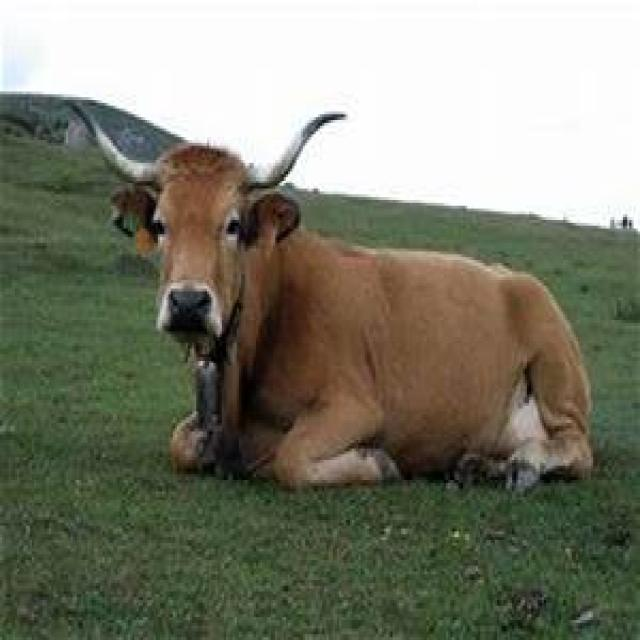cow: (109, 114, 595, 491)
